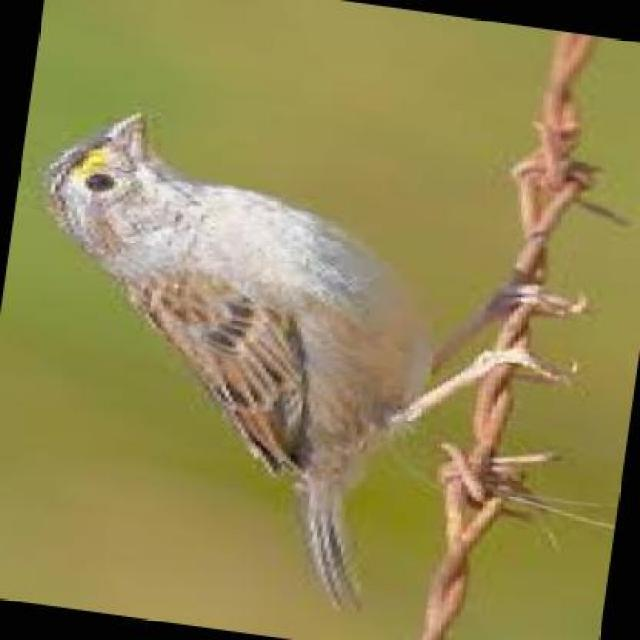Bird: (44, 101, 586, 600)
